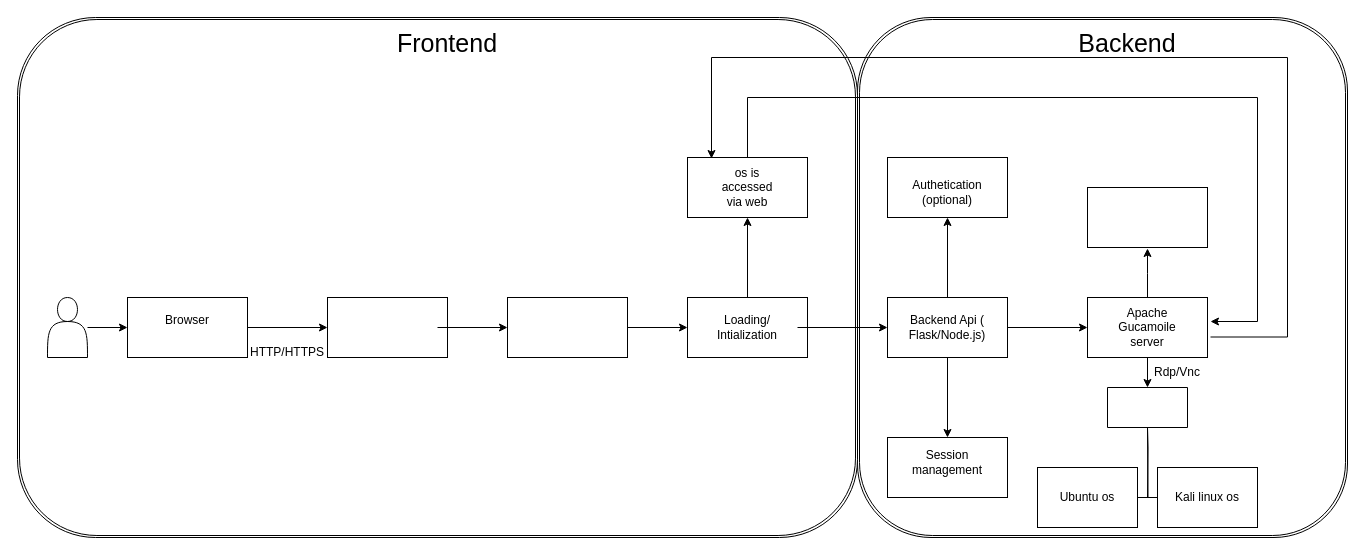
Some shapes in this 1365 by 555 pixel diagram are drawn without their labels. Each missing label, with the box of its shape:
Docker container: (1106, 386, 1188, 428)
Os Selection: (506, 296, 628, 358)
session time out: (1086, 186, 1208, 248)
User interface/ website: (326, 296, 448, 358)
